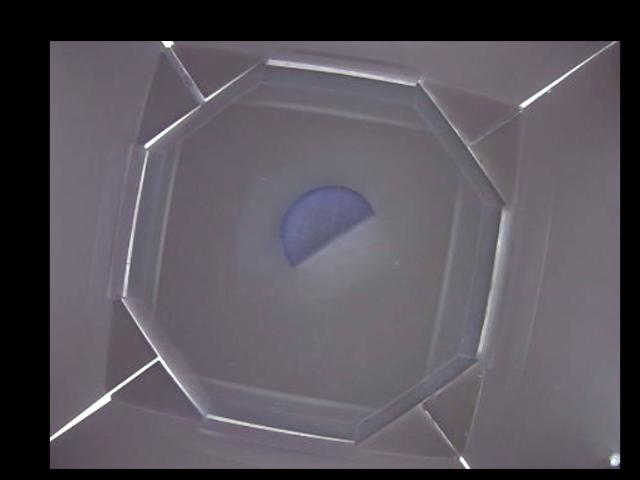Mooli: (277, 186, 377, 268)
